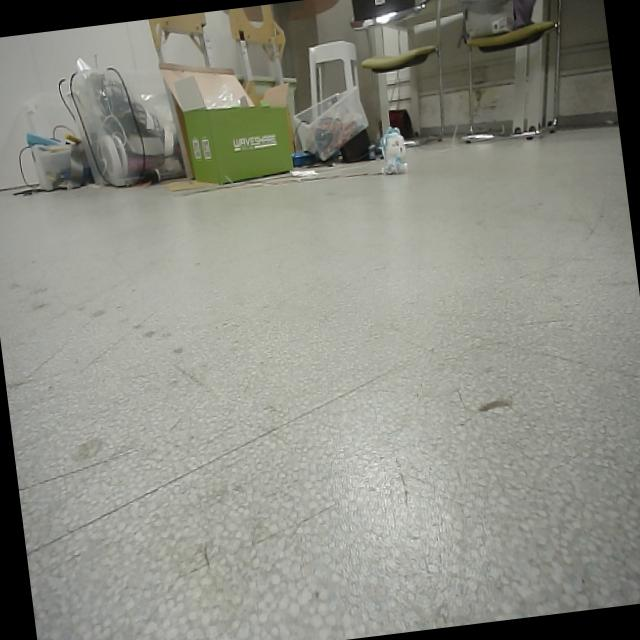xiaoba: (378, 120, 412, 182)
